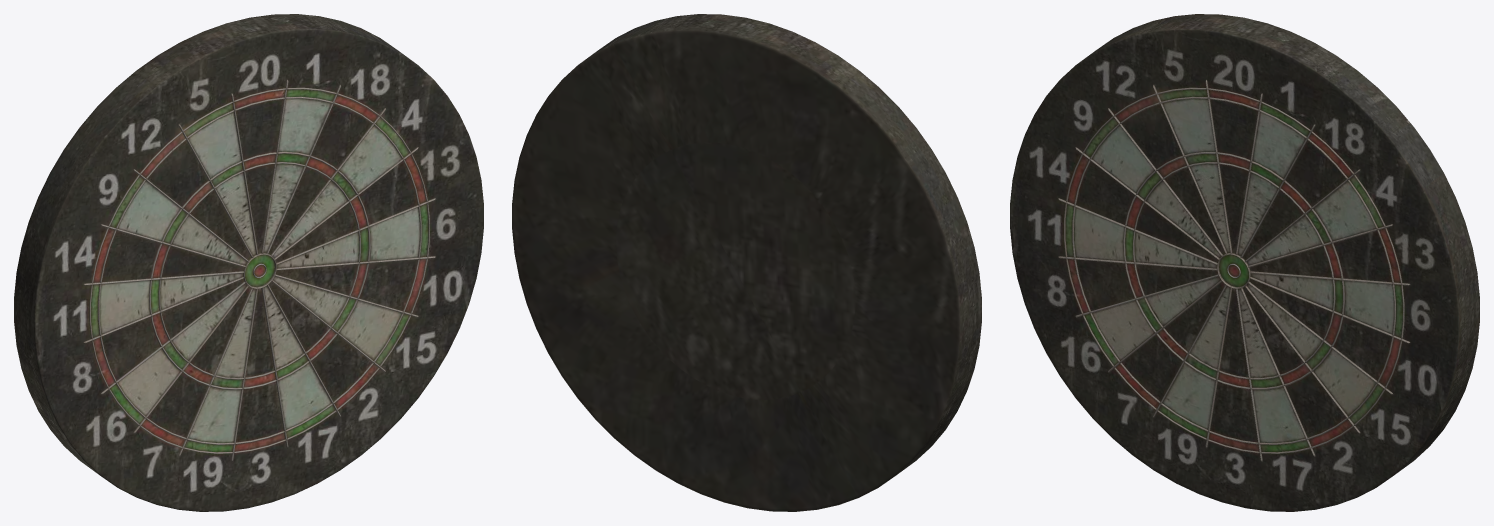
Rendered from dartboard.l.6d001d12.glb.
3 renders of one model, left to right at view 1: azimuth 30°, elevation 25°; view 2: azimuth 150°, elevation 25°; view 3: azimuth 330°, elevation 25°, orthographic.
Parts seen in each view (by area): view 1: dartboard; view 2: dartboard; view 3: dartboard.
Boxes of the visible parts, bbox=[...] form: dartboard: bbox=[14, 14, 483, 511]; dartboard: bbox=[512, 14, 981, 511]; dartboard: bbox=[1010, 14, 1479, 511].
Bounding box in the file's own units: 0.4507 × 0.4507 × 0.0398.
Materials: 1 (1 with a texture image).
